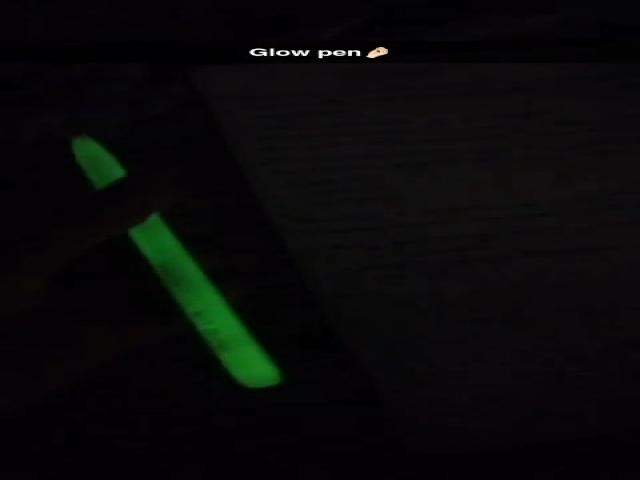PEN: (60, 138, 315, 400)
